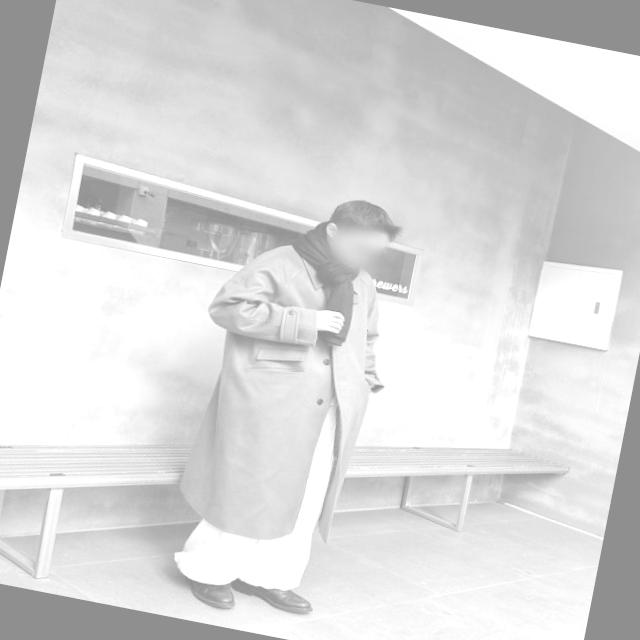coat: (165, 232, 407, 558)
cottonpants: (170, 368, 348, 606)
